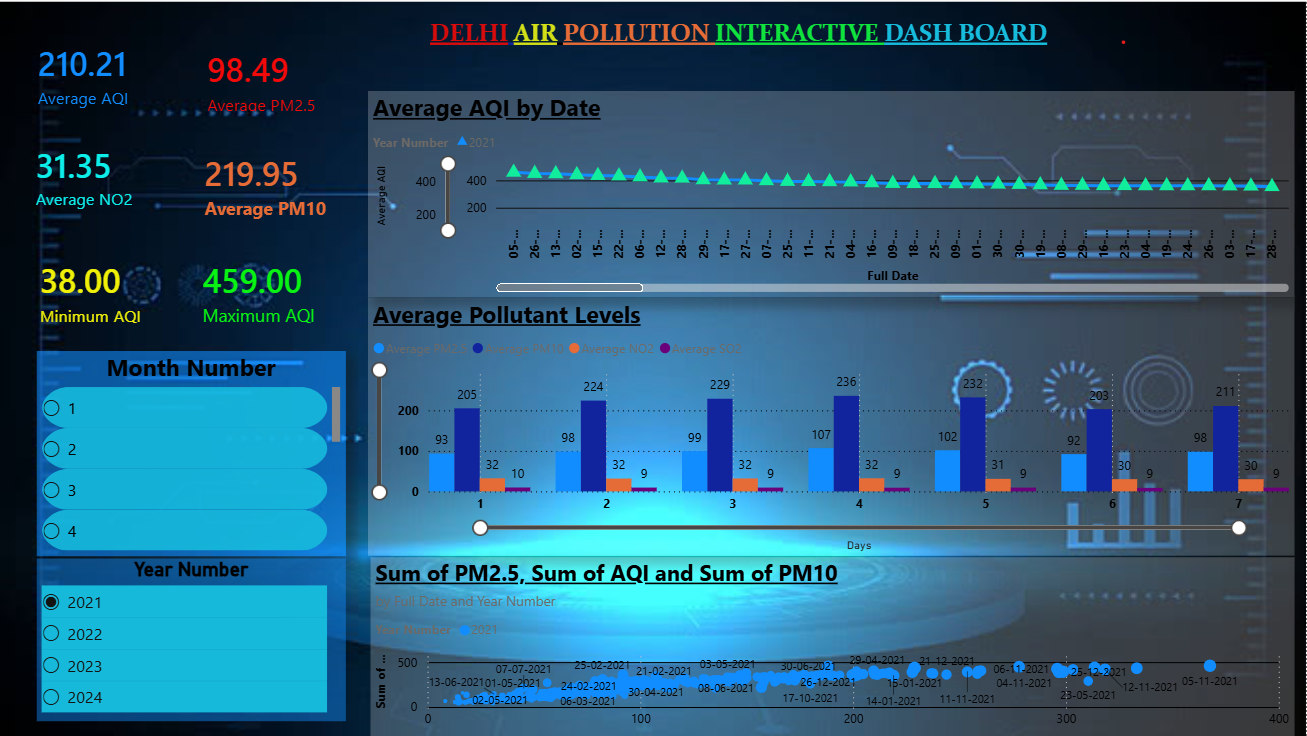

What the dashboard file says about the page in this screenshot:
{"tool":"powerbi","page":{"name":"Page 1","canvas":[1280,720],"ordinal":0},"visuals":[{"type":"image","box":[1.2,0,1279.1,720.2],"z":0},{"type":"cardVisual","fields":{"Data":["delhi_air_quality_clean.Average NO2"]},"box":[0,103.9,199.3,134.5],"z":2000},{"type":"cardVisual","fields":{"Data":["delhi_air_quality_clean.Average PM10"]},"box":[165.1,112.5,209.1,134.5],"z":4000},{"type":"clusteredColumnChart","title":"Average Pollutant Levels","fields":{"Y":["delhi_air_quality_clean.Average PM2.5","delhi_air_quality_clean.Average PM10","delhi_air_quality_clean.Average NO2","delhi_air_quality_clean.Average SO2"],"Category":["delhi_air_quality_clean.Days"]},"box":[362,289.8,918.3,253.1],"z":6000},{"type":"scatterChart","fields":{"Size":["Sum(delhi_air_quality_clean.PM10)"],"X":["Sum(delhi_air_quality_clean.PM2.5)"],"Y":["Sum(delhi_air_quality_clean.AQI)"],"Category":["delhi_air_quality_clean.Full Date"]},"box":[362,545.4,918.3,174.9],"z":7000},{"type":"cardVisual","fields":{"Data":["delhi_air_quality_clean.Maximum AQI"]},"box":[165.1,218.9,199.3,132.1],"z":8000},{"type":"listSlicer","fields":{"Values":["delhi_air_quality_clean.Month Number"]},"box":[37.9,342.4,302,200.5],"z":10000},{"type":"listSlicer","fields":{"Values":["delhi_air_quality_clean.Year Number"]},"box":[37.9,545.4,302,159],"z":11000},{"type":"textbox","box":[448.8,1.2,734.9,88],"z":13000},{"type":"cardVisual","fields":{"Data":["delhi_air_quality_clean.Minimum AQI"]},"box":[0,209.1,189.5,151.6],"z":14000},{"type":"lineChart","title":"Average AQI by Date","fields":{"Y":["delhi_air_quality_clean.Average AQI"],"Series":["delhi_air_quality_clean.Year Number"],"Category":["delhi_air_quality_clean.Full Date Hierarchy.Full Date"]},"box":[359.5,89.3,918.3,201.8],"z":14001},{"type":"cardVisual","fields":{"Data":["delhi_air_quality_clean.Average AQI"]},"box":[0,0,192,144],"z":14003},{"type":"cardVisual","fields":{"Data":["delhi_air_quality_clean.Average PM2.5"]},"box":[176,0,176,144],"z":14004}]}

Visuals, with their boxes in screenshot pixels (x1, y1, x2, y2), scaled from the page's 1280x720 canvas onto the 1307x736 screenshot:
image: [1,0,1306,735]
cardVisual - delhi_air_quality_clean.Average NO2: [0,106,204,244]
cardVisual - delhi_air_quality_clean.Average PM10: [169,115,382,252]
"Average Pollutant Levels" clusteredColumnChart: [370,296,1306,555]
scatterChart - Sum(delhi_air_quality_clean.PM10) x Sum(delhi_air_quality_clean.PM2.5): [370,558,1306,735]
cardVisual - delhi_air_quality_clean.Maximum AQI: [169,224,372,359]
listSlicer - delhi_air_quality_clean.Month Number: [39,350,347,555]
listSlicer - delhi_air_quality_clean.Year Number: [39,558,347,720]
textbox: [458,1,1209,91]
cardVisual - delhi_air_quality_clean.Minimum AQI: [0,214,193,369]
"Average AQI by Date" lineChart: [367,91,1305,298]
cardVisual - delhi_air_quality_clean.Average AQI: [0,0,196,147]
cardVisual - delhi_air_quality_clean.Average PM2.5: [180,0,359,147]
